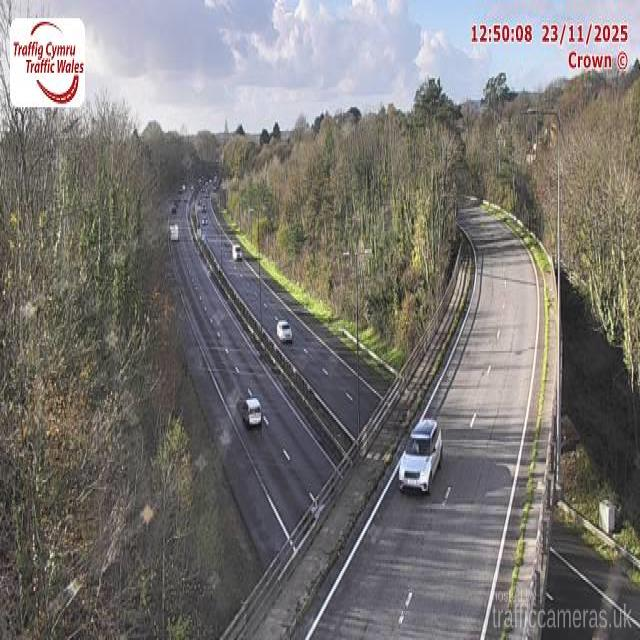foliage: (0, 104, 228, 637), (217, 75, 467, 353), (466, 58, 639, 399)
